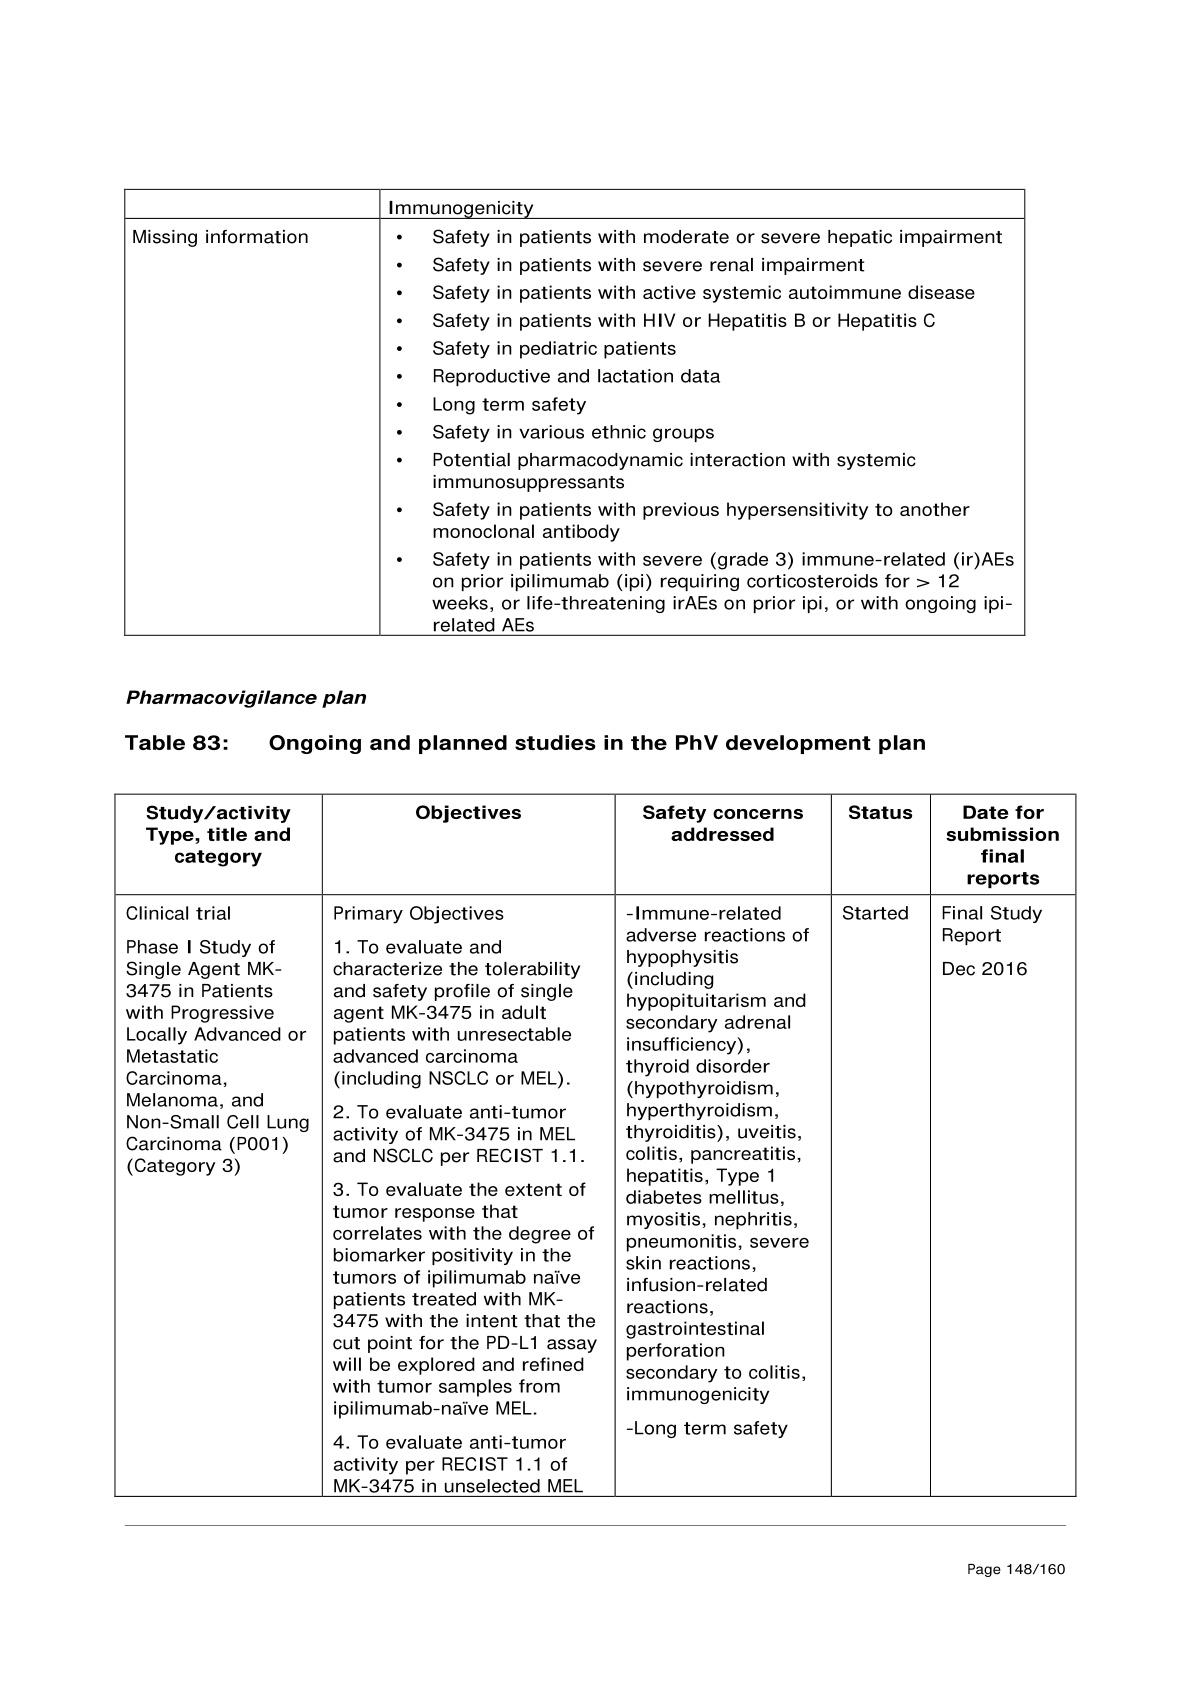full_lined: (113, 792, 1078, 1498), (122, 188, 1026, 636)
